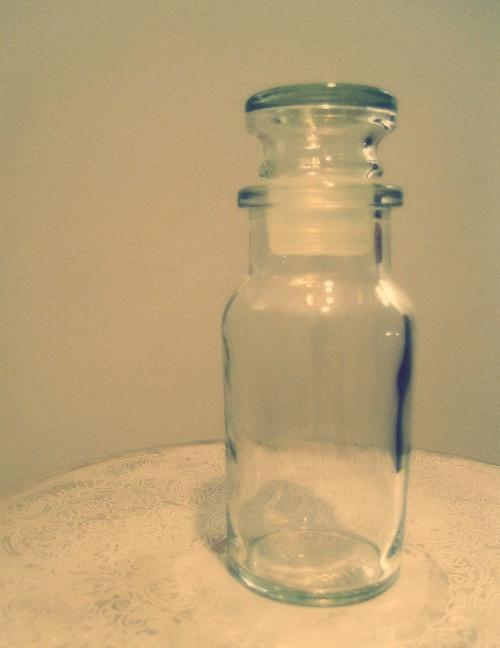bottle: (220, 81, 416, 608)
